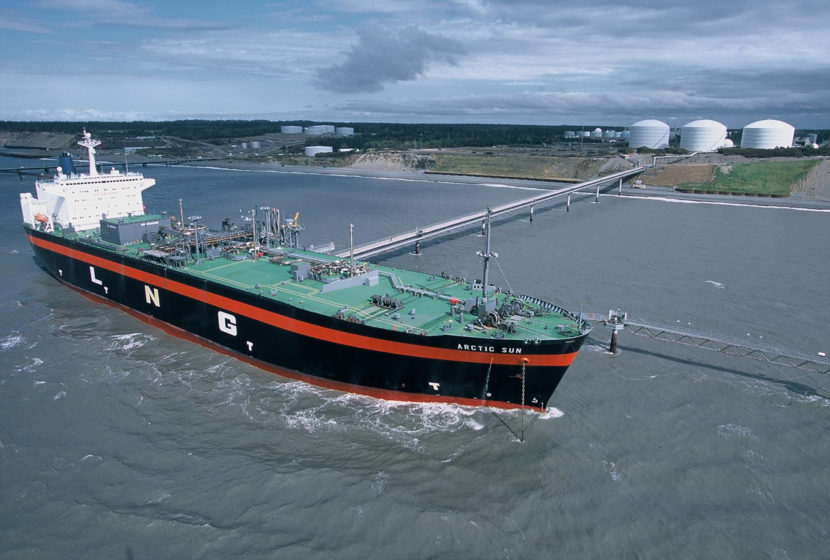Cargoship: (20, 129, 591, 417)
